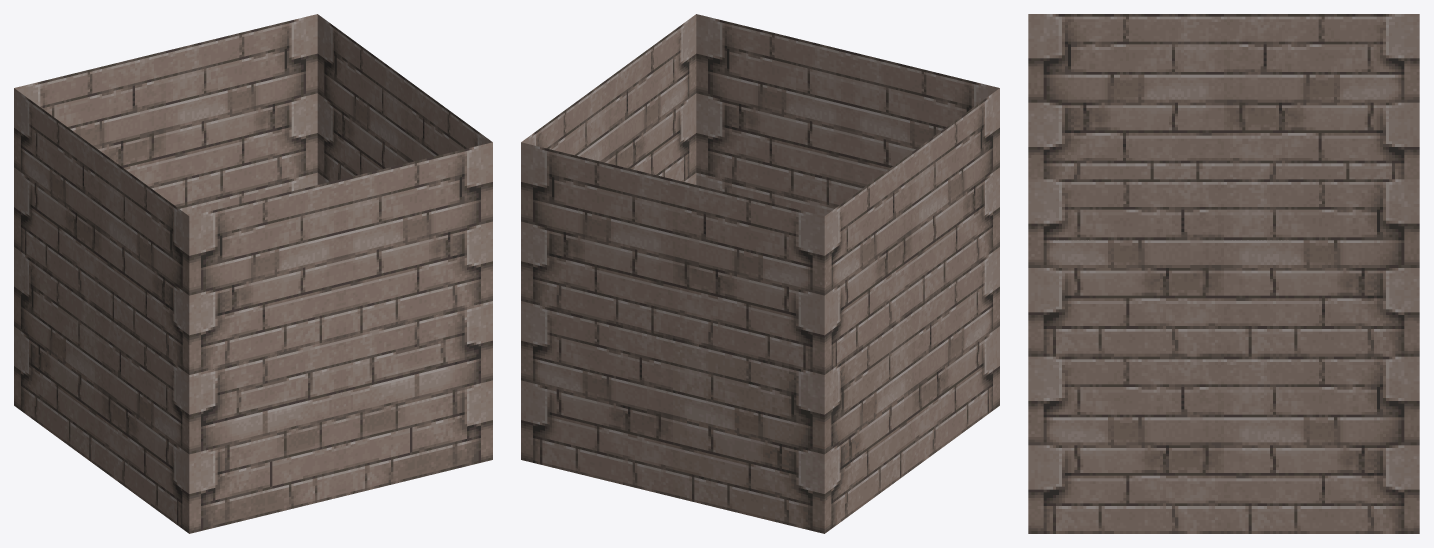
The model's file is stone_square_half_2m.glb.
The picture shows the model from 3 angles, left to right: view 1: azimuth 30°, elevation 25°; view 2: azimuth 150°, elevation 25°; view 3: azimuth 270°, elevation 25°; orthographic projection. The views are drawn at different scales.
Visible parts, largest first — view 1: stone_square_half_2m; view 2: stone_square_half_2m; view 3: stone_square_half_2m.
Part boxes in pixels (bbox=[...]): stone_square_half_2m: bbox=[14, 14, 492, 533]; stone_square_half_2m: bbox=[521, 14, 999, 533]; stone_square_half_2m: bbox=[1028, 14, 1419, 533].
Size of the model in its own units: 2 by 2 by 2.
Materials: 1 (1 with a texture image).
